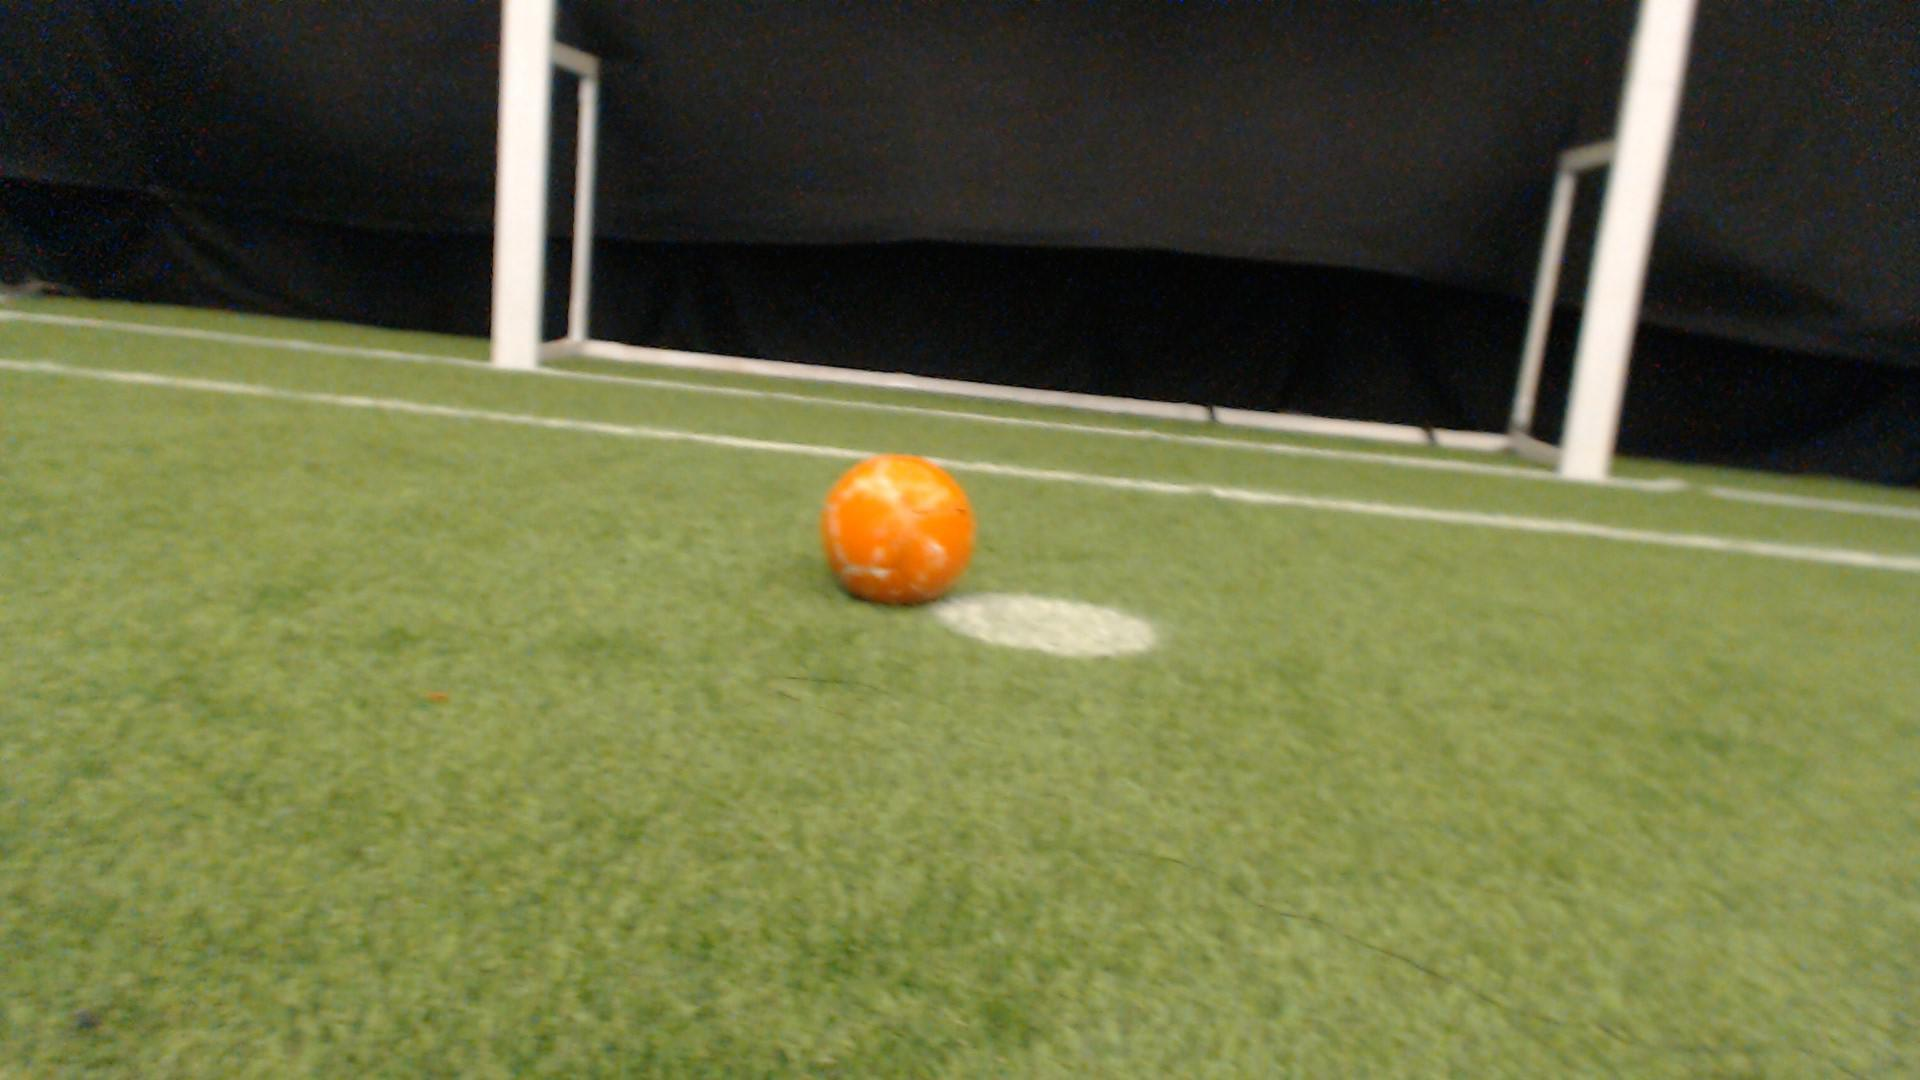bola: (798, 439, 998, 620)
